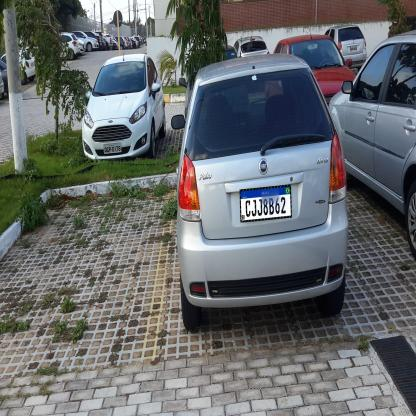PlacaM: (239, 184, 292, 222)
